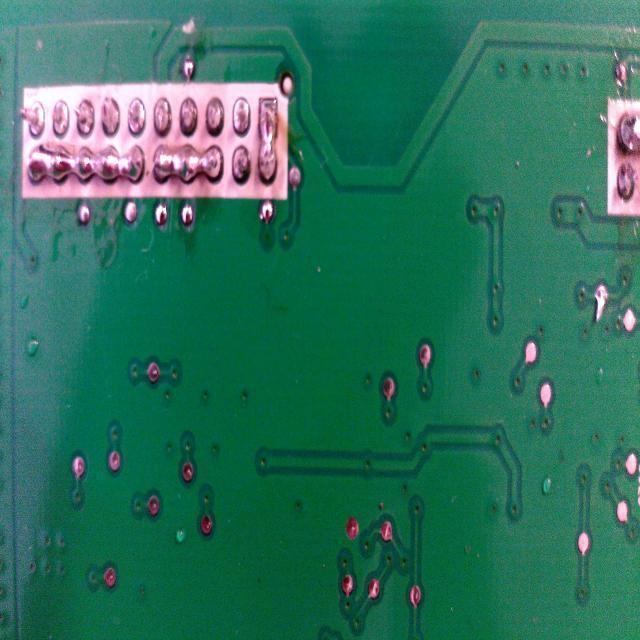Soldering shorted: (22, 138, 146, 200), (150, 140, 230, 200), (257, 94, 279, 198)
